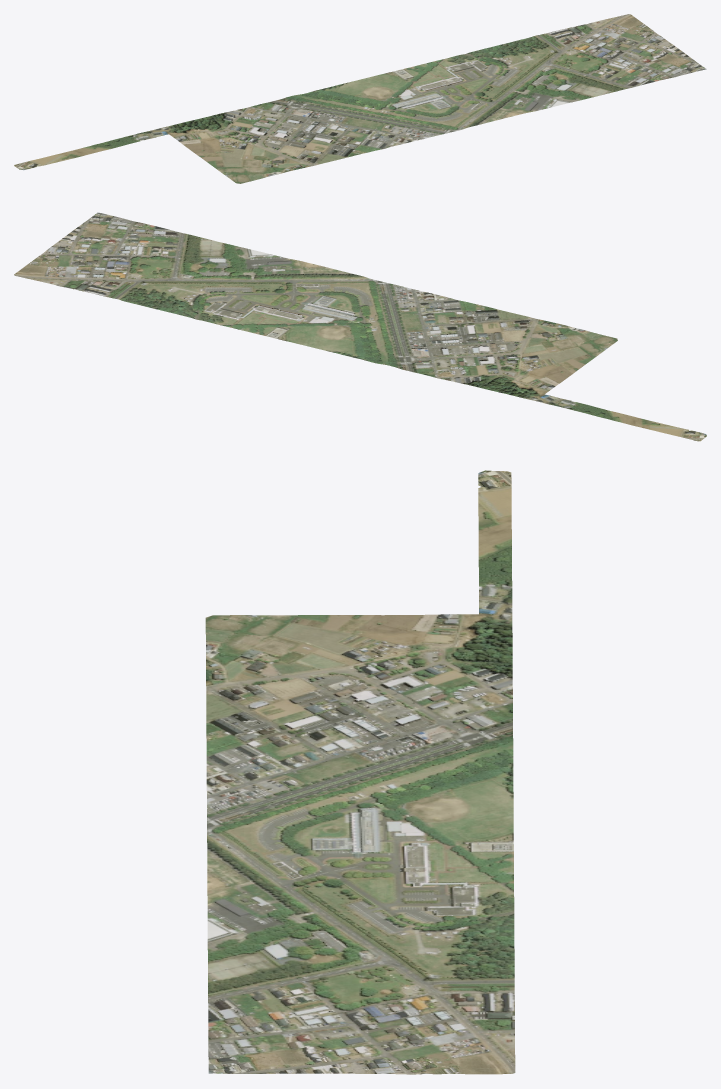
The model's file is 544010_dem_6697_55_op.fbx.
3 views of the same model, one above another, from view 1: azimuth 30°, elevation 25°; view 2: azimuth 150°, elevation 25°; view 3: azimuth 270°, elevation 25° (orthographic). The views are drawn at different scales.
Visible parts, largest first — view 1: dem_e97ef941-fbd9-4772-95d1-6d9d79c3acfa, dem_35a70af0-ab6a-47cb-b56e-40cac95b8d2b; view 2: dem_e97ef941-fbd9-4772-95d1-6d9d79c3acfa, dem_35a70af0-ab6a-47cb-b56e-40cac95b8d2b; view 3: dem_e97ef941-fbd9-4772-95d1-6d9d79c3acfa, dem_35a70af0-ab6a-47cb-b56e-40cac95b8d2b.
Boxes of the visible parts, box(x1,y1,x2,y2) form: dem_e97ef941-fbd9-4772-95d1-6d9d79c3acfa: box(30, 17, 689, 183); dem_35a70af0-ab6a-47cb-b56e-40cac95b8d2b: box(613, 14, 706, 73); dem_e97ef941-fbd9-4772-95d1-6d9d79c3acfa: box(32, 217, 688, 436); dem_35a70af0-ab6a-47cb-b56e-40cac95b8d2b: box(14, 212, 115, 279); dem_e97ef941-fbd9-4772-95d1-6d9d79c3acfa: box(205, 487, 515, 1057); dem_35a70af0-ab6a-47cb-b56e-40cac95b8d2b: box(208, 1056, 515, 1074).
Bounding box in the file's own units: 1191 × 3.07 × 258.
Materials: 6 (6 with a texture image).
